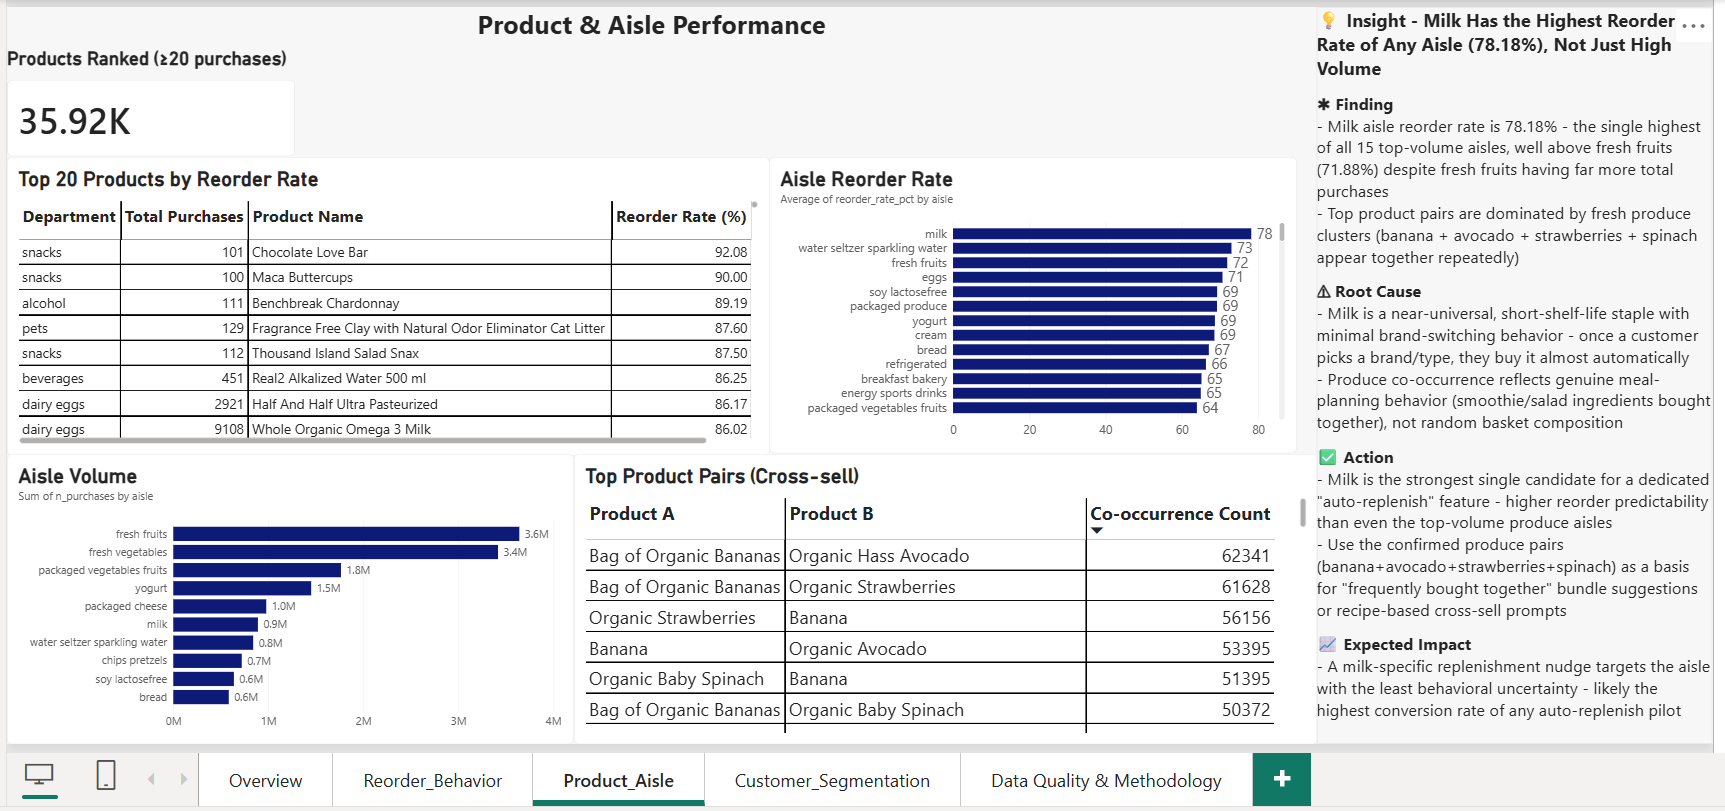

Layout of this report page (visuals, bound fields, positions):
{"tool":"powerbi","page":{"name":"Product_Aisle","canvas":[2500,1080],"ordinal":2},"visuals":[{"type":"textbox","box":[680,0,542.5,60],"z":0},{"type":"cardVisual","title":"Products Ranked (≥20 purchases)","fields":{"Data":["KPI summary.Products Ranked"]},"box":[0,60,422.5,160],"z":1000},{"type":"tableEx","title":"Top 20 Products by Reorder Rate\t","fields":{"Values":["mart_product_performance.product_name","mart_product_performance.department","Sum(mart_product_performance.n_purchases)","mart_product_performance.reorder_rate_pct"]},"box":[0,220,1111.4,434.3],"z":2000},{"type":"clusteredBarChart","title":"Aisle Volume","fields":{"Category":["mart_product_performance.aisle"],"Y":["Sum(mart_product_performance.n_purchases)"]},"box":[0,655,830,425],"z":3000},{"type":"tableEx","title":"Top Product Pairs (Cross-sell)","fields":{"Values":["mart_product_pairs.product_a_name","mart_product_pairs.product_b_name","Sum(mart_product_pairs.n_cooccurrence)"]},"box":[830,655,1090,425],"z":4000},{"type":"clusteredBarChart","title":"Aisle Reorder Rate","fields":{"Category":["mart_product_performance.aisle"],"Y":["Avg(mart_product_performance.reorder_rate_pct)"]},"box":[1111.4,220,808.6,434.3],"z":5000},{"type":"textbox","box":[1920,0,580,1080],"z":5001}]}

Visuals, with their boxes on the page's 2500x1080 design canvas (x1, y1, x2, y2). These are canvas units, not pixel positions in the 1725x811 screenshot, which may show the page scaled, cropped or inside an application window:
textbox: [680,0,1222,60]
"Products Ranked (≥20 purchases)" cardVisual: [0,60,422,220]
"Top 20 Products by Reorder Rate	" tableEx: [0,220,1111,654]
"Aisle Volume" clusteredBarChart: [0,655,830,1080]
"Top Product Pairs (Cross-sell)" tableEx: [830,655,1920,1080]
"Aisle Reorder Rate" clusteredBarChart: [1111,220,1920,654]
textbox: [1920,0,2500,1080]
